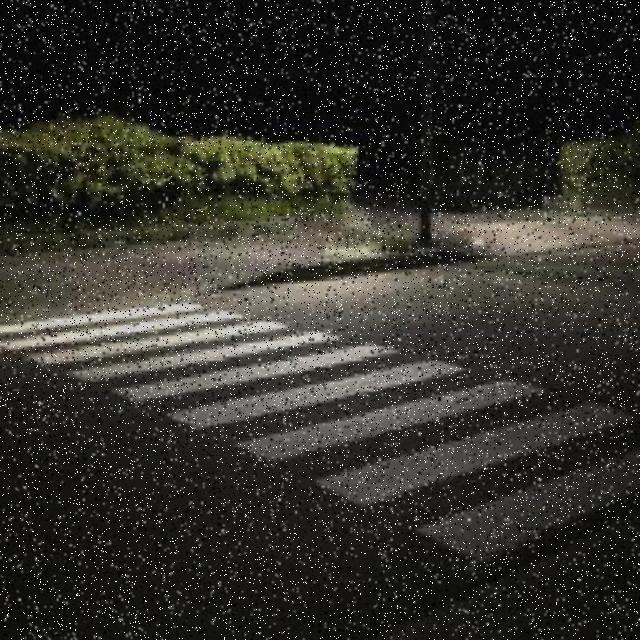crosswalk: (0, 297, 640, 572)
